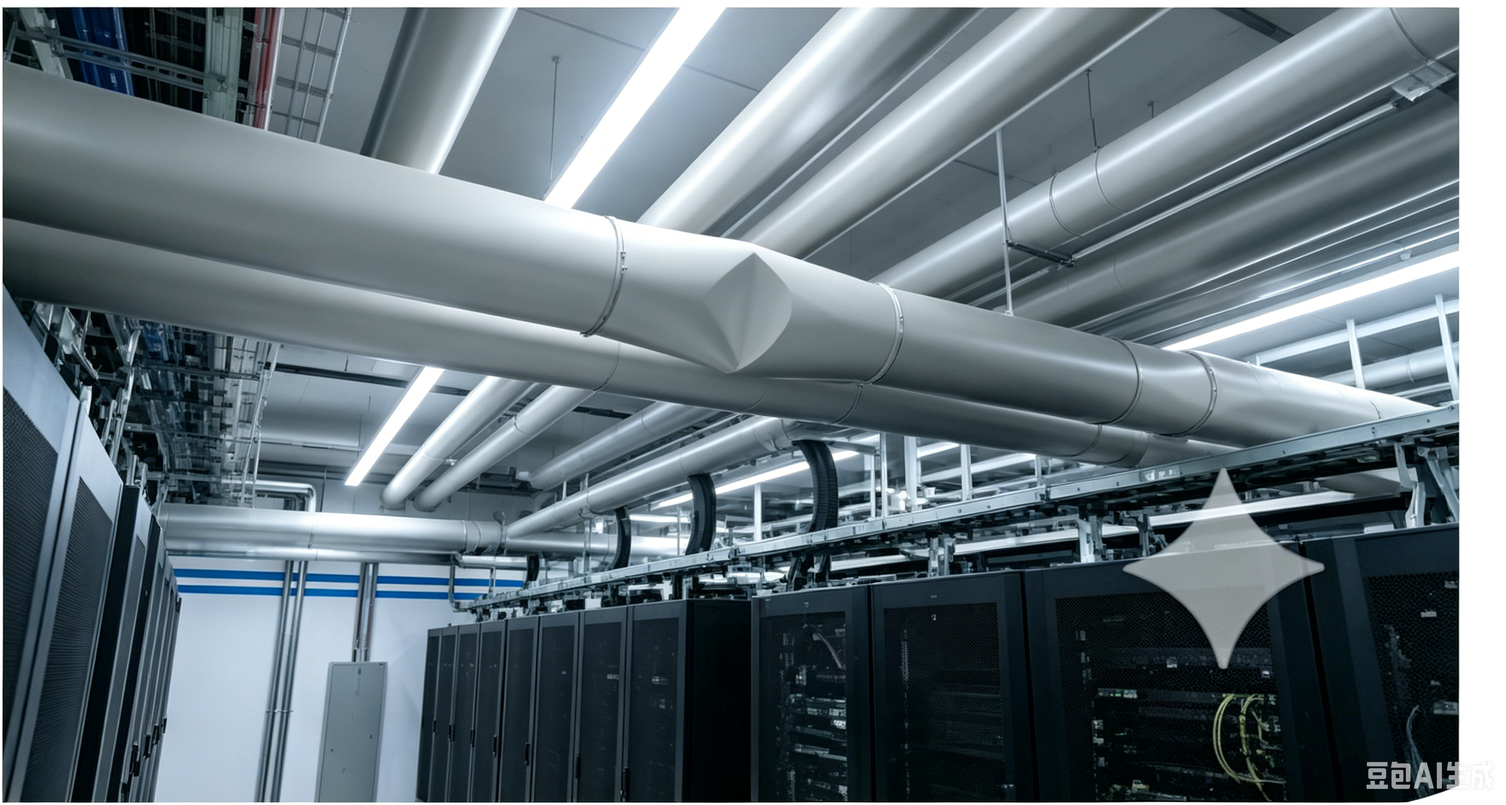Leakage: (687, 235, 824, 384)
